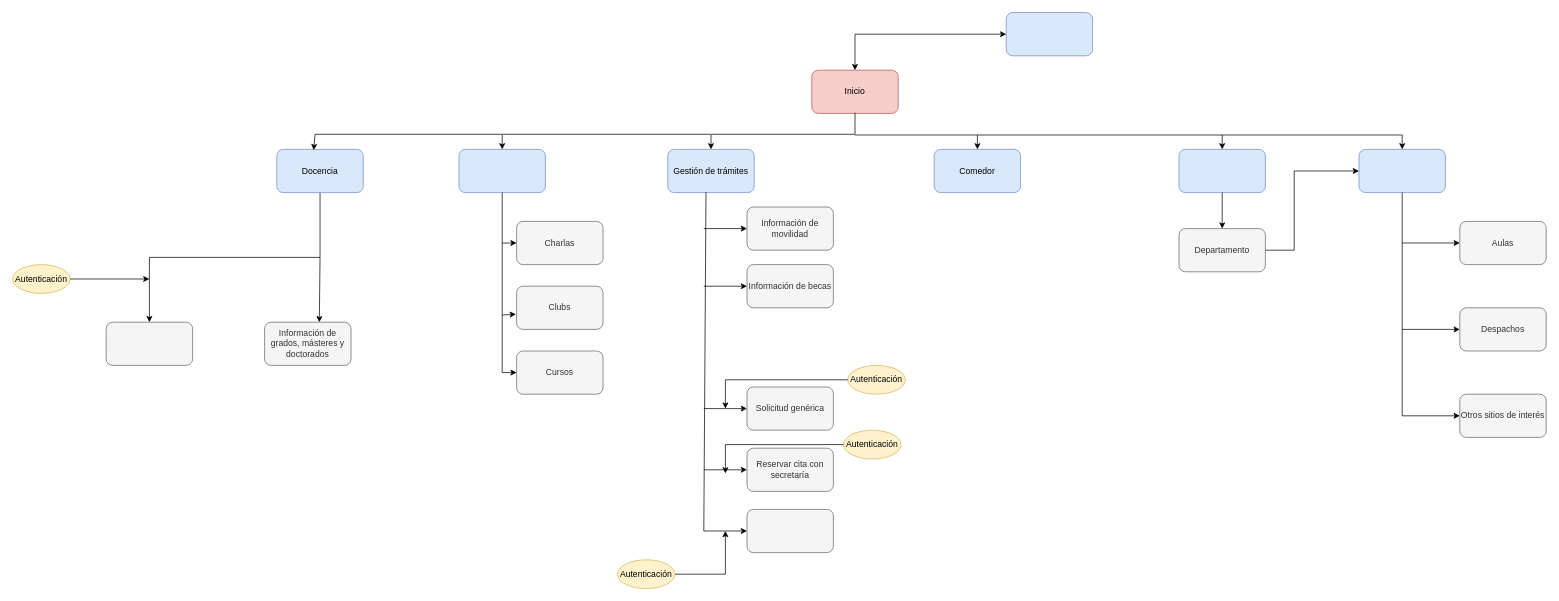
Image size: 1559x601. Some labels were removed from this diagram. The box of each missing label's shape, as (x1, y1, x2, y2) in pixels:
Actividades: (458, 149, 545, 193)
Ayuda: (1005, 12, 1093, 56)
Certificado de notas: (746, 509, 833, 553)
Horarios asignaturas matriculadas: (105, 321, 193, 365)
Localizaciones: (1358, 149, 1445, 193)
Profesorado y tutorías: (1178, 149, 1265, 193)
